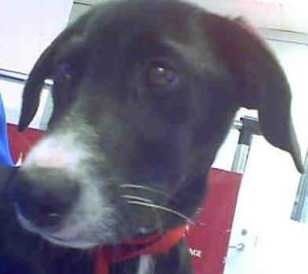Dog: (20, 0, 302, 246)
